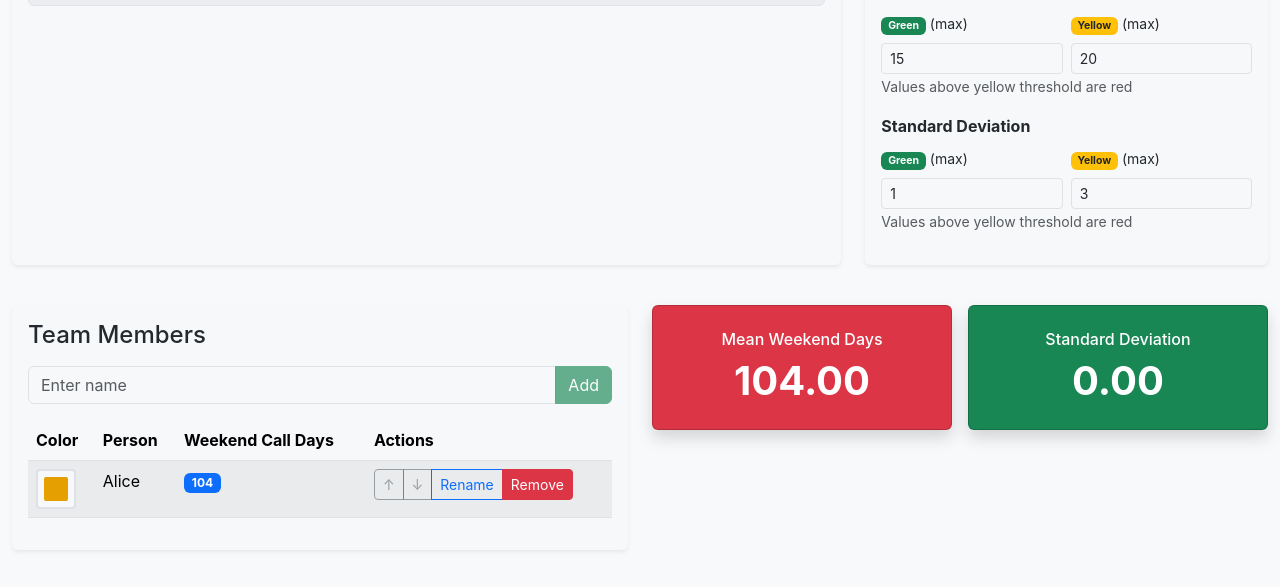
Test: App › localStorage functionality › updates localStorage when team member is renamed
The width and height of the screenshot is (1280, 587).
(page scrolled)
// Click the Rename button instead
Click the button "Rename".
click(467, 484)  # box [431,469,503,500]
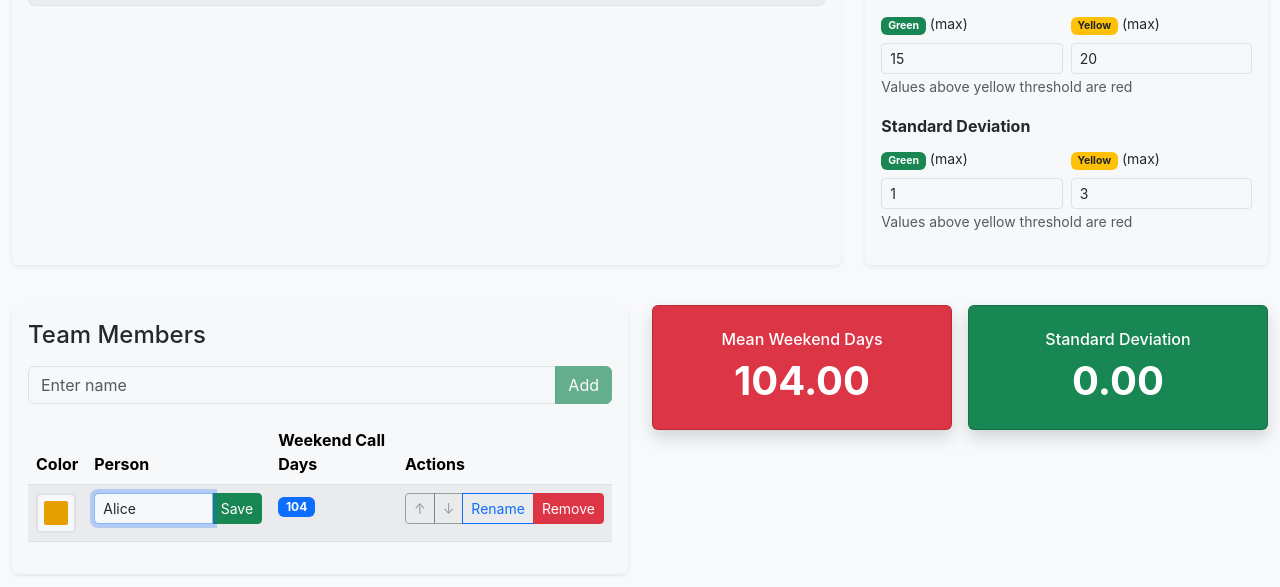
// Find the edit input and change the name
Replace the text in the field showing "Alice" with "Alice Smith" at (154,508), box [94,493,213,524]
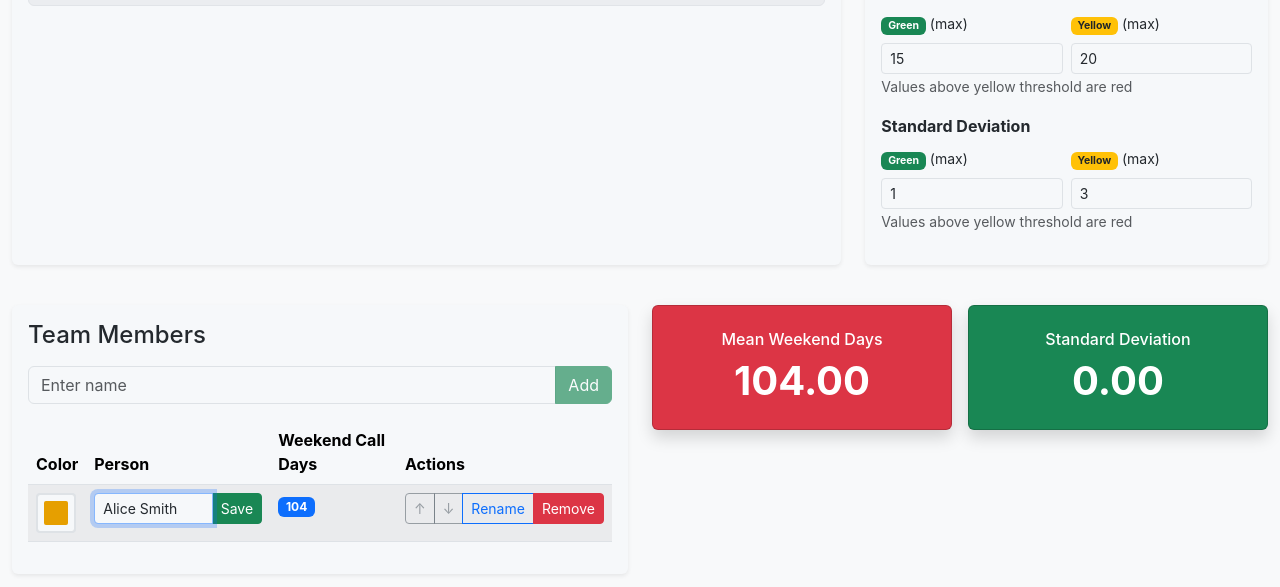
// Click the Save button
Click the button "Save".
click(237, 508)  # box [212,493,262,524]
(page scrolled)
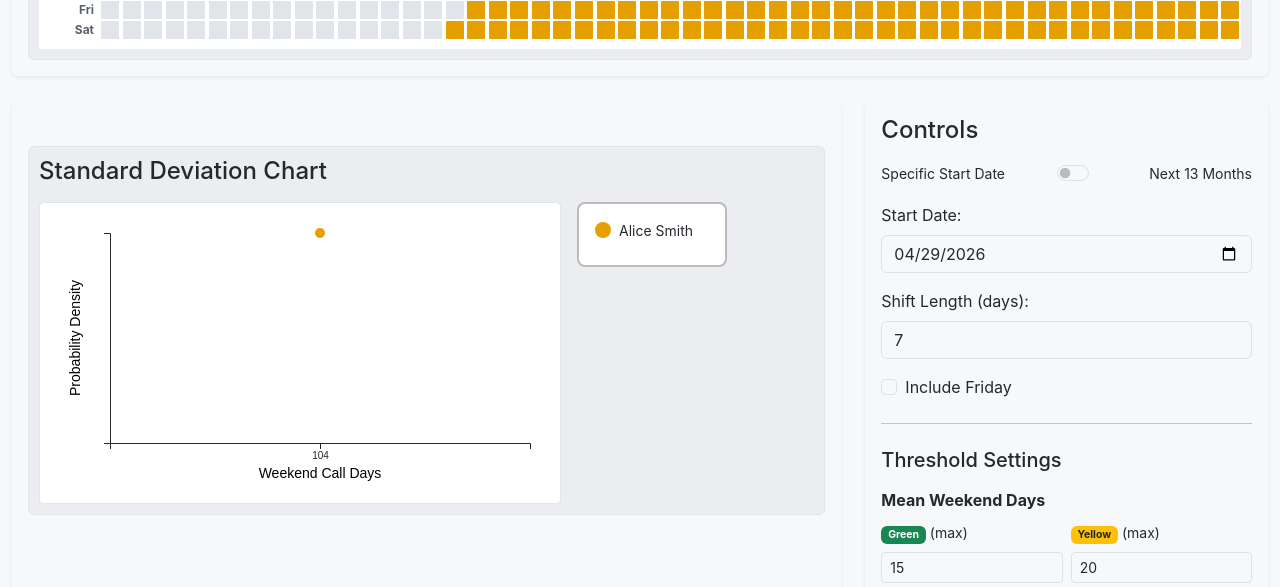
Now the text "Alice Smith" is shown, box [619,220,693,241]
